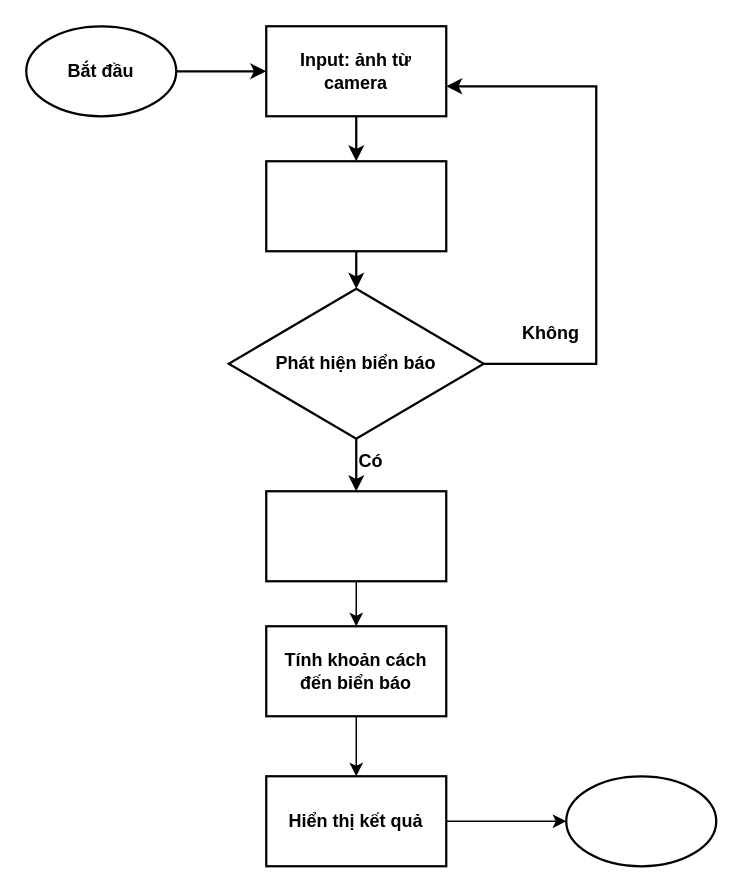
Image size: 744x894. Some labels were removed from this diagram. Here are the shapes that lost their labels. From the top down, the box of each, then its label:
(264, 159, 447, 252): Chuyển đổi ảnh thành ảnh xám
(264, 489, 447, 582): Đóng khung và phân loại biển báo
(564, 774, 717, 867): Kết thúc
